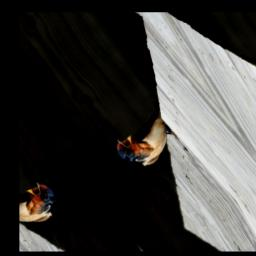Swallow: (104, 111, 185, 177)
